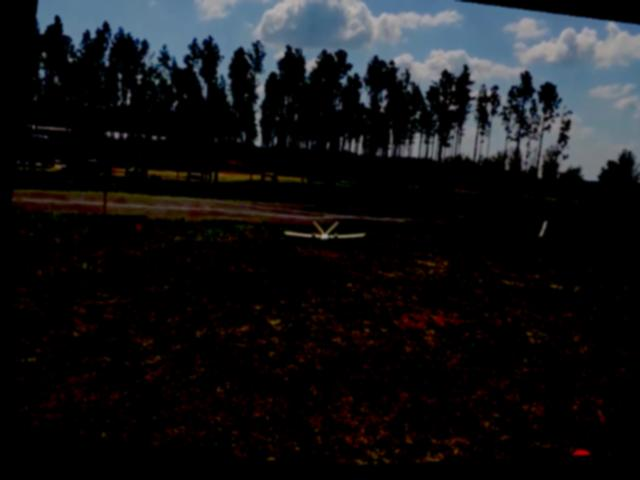plane: (280, 211, 365, 255)
